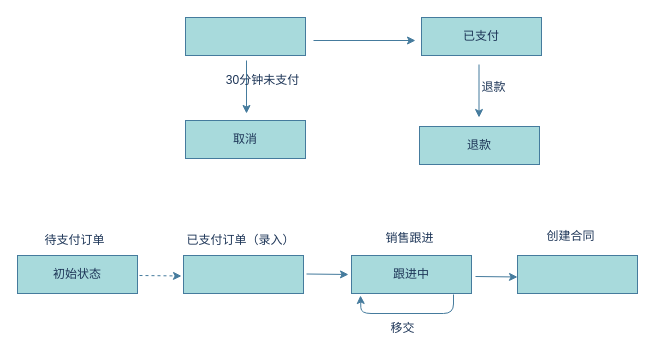
This 655x355 diagram has some shape labels left out. Here are the shapes that lost their labels. From the top down, the centre of each, then its label:
pixel 245 36: 下单待支付
pixel 243 274: 待分配
pixel 577 274: 跟进完成
